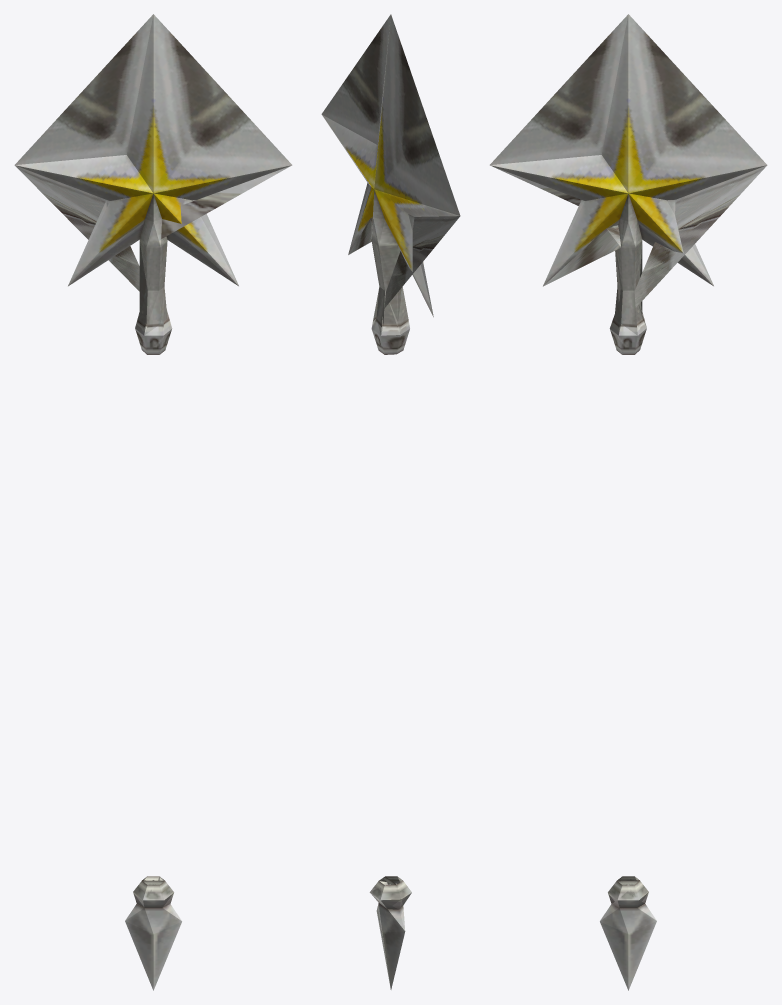
File: Whale_specialWeapon_Lance.obj
3 views of the same model, side by side, from view 1: azimuth 90°, elevation 25°; view 2: azimuth 210°, elevation 25°; view 3: azimuth 270°, elevation 25° (orthographic).
Visible parts, largest first — view 1: Whale_specialWeapon_tri [Lance]; view 2: Whale_specialWeapon_tri [Lance]; view 3: Whale_specialWeapon_tri [Lance].
Part boxes in pixels (left/top/right/bottom): Whale_specialWeapon_tri [Lance]: left=14, top=14, right=292, bottom=990; Whale_specialWeapon_tri [Lance]: left=321, top=14, right=460, bottom=989; Whale_specialWeapon_tri [Lance]: left=489, top=14, right=767, bottom=990.
Size of the model in its own units: 0.1273 by 3.36 by 0.8674.
1 material, 1 textured.
